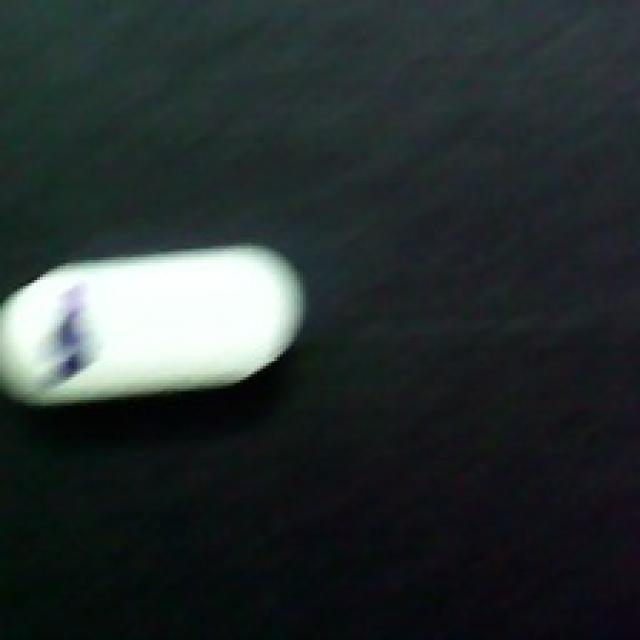defected: (0, 237, 309, 411)
